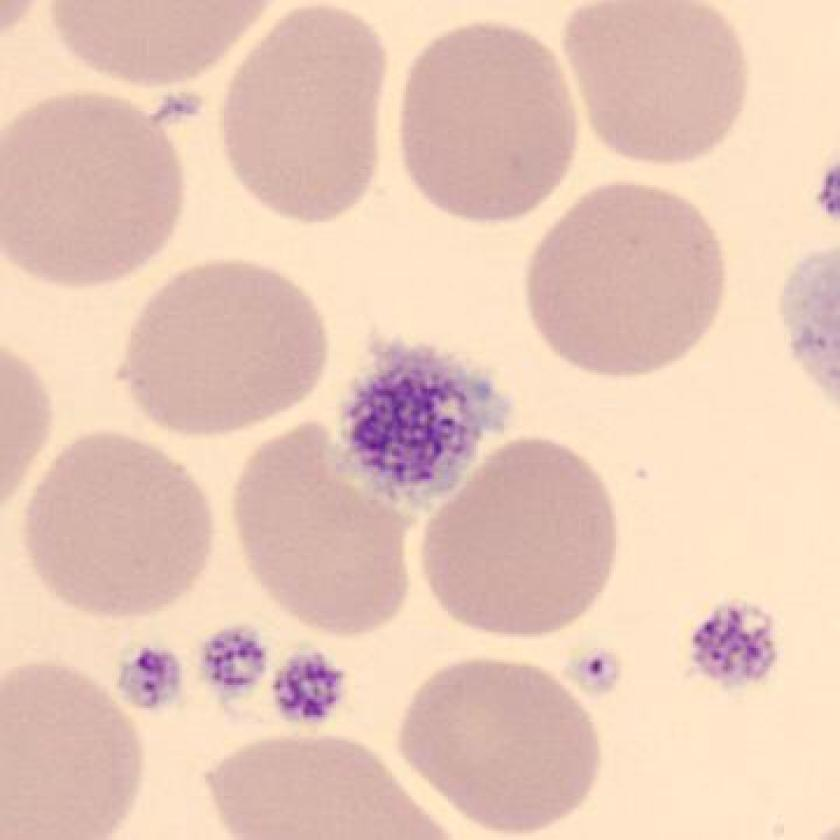platelets: (321, 339, 507, 512), (680, 594, 785, 703), (195, 617, 279, 712), (267, 640, 353, 732), (109, 640, 193, 721), (568, 644, 631, 702)
